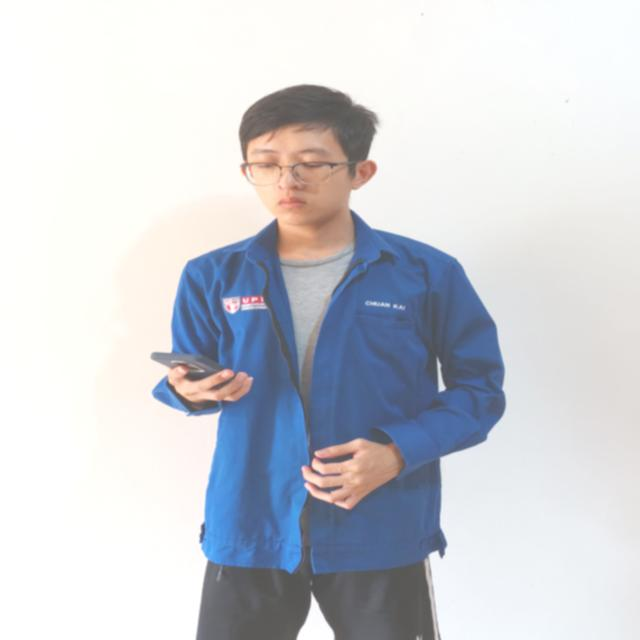person_with_labcoat: (153, 85, 505, 640)
